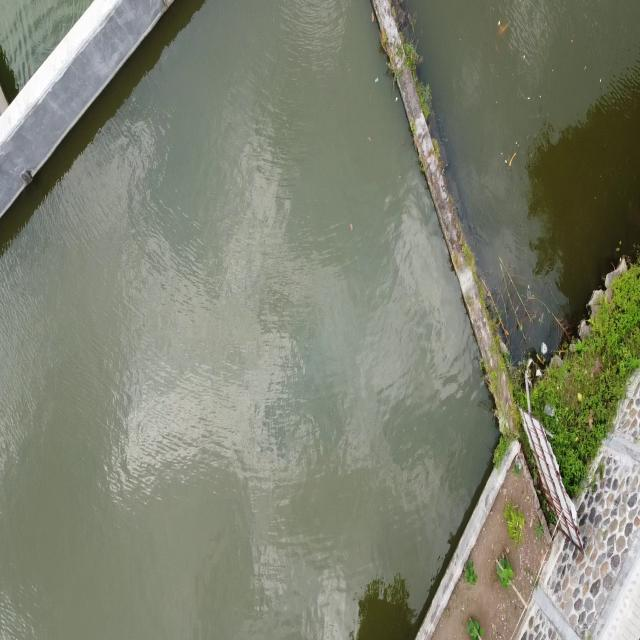Ponds: (1, 1, 526, 640), (374, 1, 640, 448)
